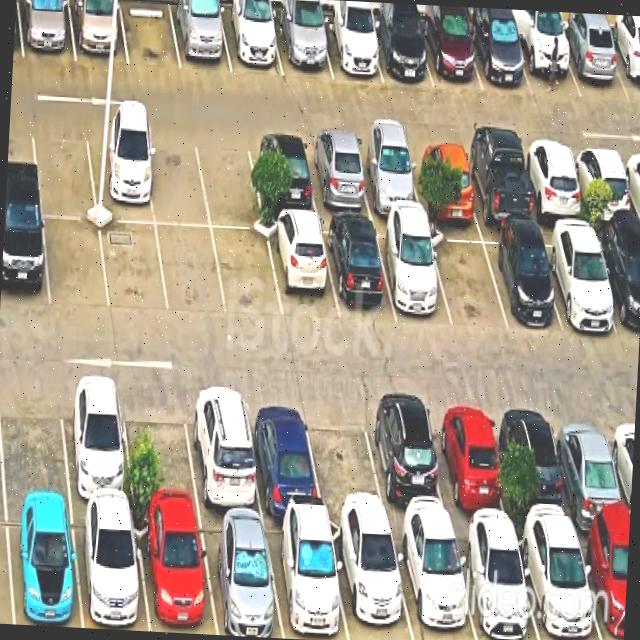empty: (304, 397, 388, 522), (121, 383, 200, 512), (0, 378, 70, 502), (428, 228, 508, 329), (194, 132, 264, 230), (156, 225, 227, 316), (144, 129, 210, 226), (31, 122, 97, 218), (212, 230, 283, 319), (101, 222, 168, 316), (44, 217, 110, 310), (120, 0, 181, 69)
occupied: (363, 399, 452, 524), (198, 514, 284, 639), (428, 400, 510, 528), (264, 518, 349, 640), (134, 511, 217, 635), (184, 387, 263, 515), (329, 520, 413, 640), (245, 391, 324, 516), (72, 506, 150, 632), (453, 526, 539, 640), (391, 526, 477, 640), (552, 405, 630, 530), (59, 378, 134, 507), (515, 528, 601, 640), (500, 402, 575, 528), (6, 505, 82, 628), (538, 227, 620, 332), (375, 223, 452, 326), (481, 229, 561, 328), (321, 220, 396, 320), (267, 218, 339, 320), (85, 126, 155, 223), (576, 529, 630, 640), (462, 143, 535, 225), (408, 141, 479, 221), (556, 24, 630, 100), (248, 135, 318, 215), (354, 138, 424, 216), (304, 137, 373, 215), (511, 23, 581, 98), (593, 228, 640, 339), (570, 145, 636, 224), (520, 145, 587, 222), (467, 17, 532, 94), (0, 210, 50, 308), (419, 16, 483, 90), (219, 5, 284, 76), (368, 17, 433, 87), (318, 14, 383, 83), (170, 1, 232, 73), (272, 12, 332, 77), (69, 0, 129, 64), (18, 0, 76, 61), (605, 28, 640, 101)
